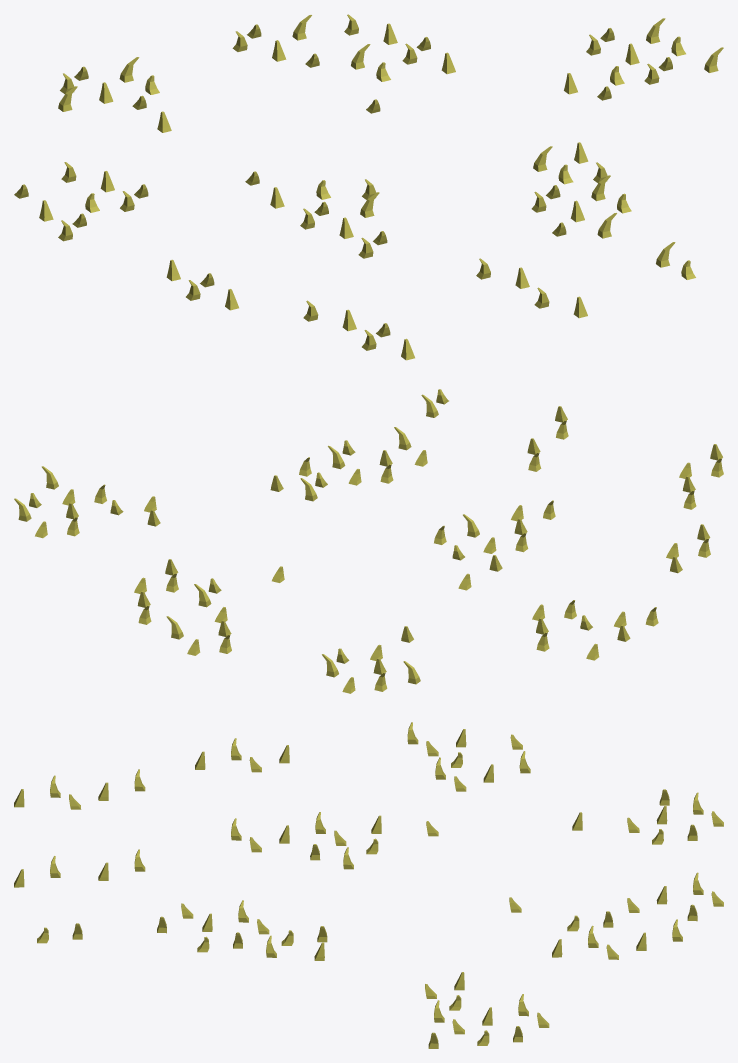
File: GrassLarge1.fbx
3 views of the same model, one above another, from view 1: azimuth 30°, elevation 25°; view 2: azimuth 150°, elevation 25°; view 3: azimuth 270°, elevation 25° (orthographic). The views are drawn at different scales.
Visible parts, largest first — view 1: Cube.022; view 2: Cube.022; view 3: Cube.022.
Boxes of the visible parts, x1,y1,x2,y2 form: Cube.022: (14, 14, 723, 360); Cube.022: (14, 389, 723, 693); Cube.022: (14, 722, 723, 1048).
Size of the model in its own units: 827 by 23.84 by 795.
